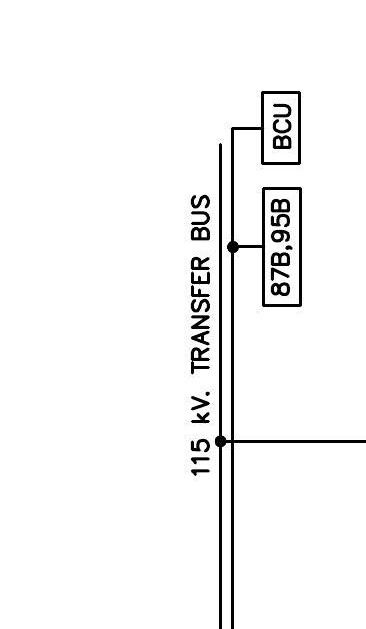BCU: (260, 90, 302, 166)
